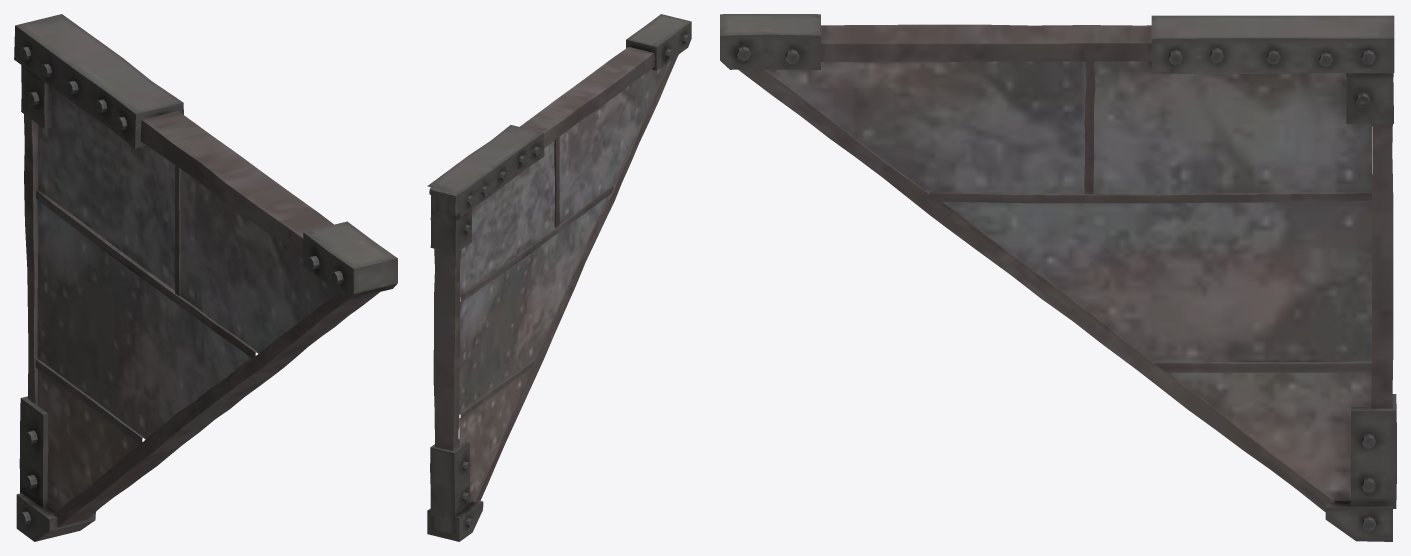
The model's file is SM_WallTryangleReverse_Iron_9fc994.glb.
3 views of the same model, side by side, from view 1: azimuth 30°, elevation 25°; view 2: azimuth 150°, elevation 25°; view 3: azimuth 270°, elevation 25° (orthographic). The views are drawn at different scales.
Size of the model in its own units: 0.4152 by 3.36 by 4.07.
Materials: 1 (1 with a texture image).
